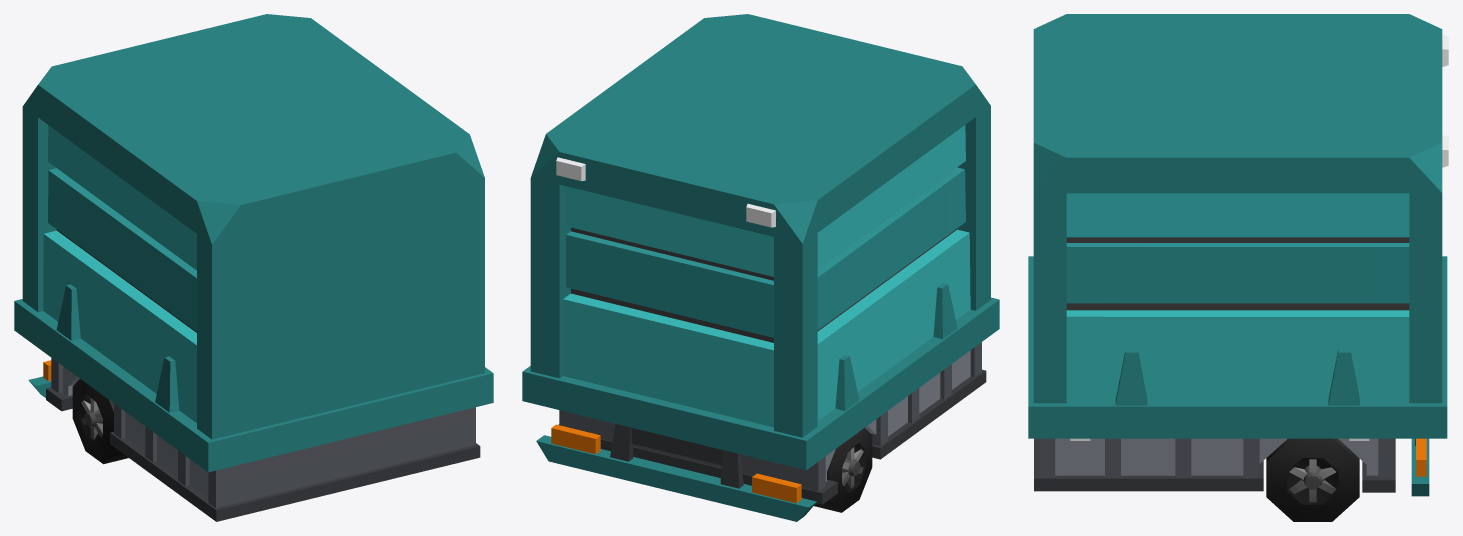
File: cargo_02_D_1.fbx
3 views of the same model, side by side, from view 1: azimuth 30°, elevation 25°; view 2: azimuth 150°, elevation 25°; view 3: azimuth 270°, elevation 25° (orthographic). The views are drawn at different scales.
Visible parts, largest first — view 1: cargo_02_D_1; view 2: cargo_02_D_1; view 3: cargo_02_D_1.
Part boxes in pixels (x1,y1,x2,y2): cargo_02_D_1: (14, 14, 493, 521); cargo_02_D_1: (522, 14, 999, 521); cargo_02_D_1: (1028, 14, 1448, 521).
Size of the model in its own units: 1395 by 1603 by 1648.
